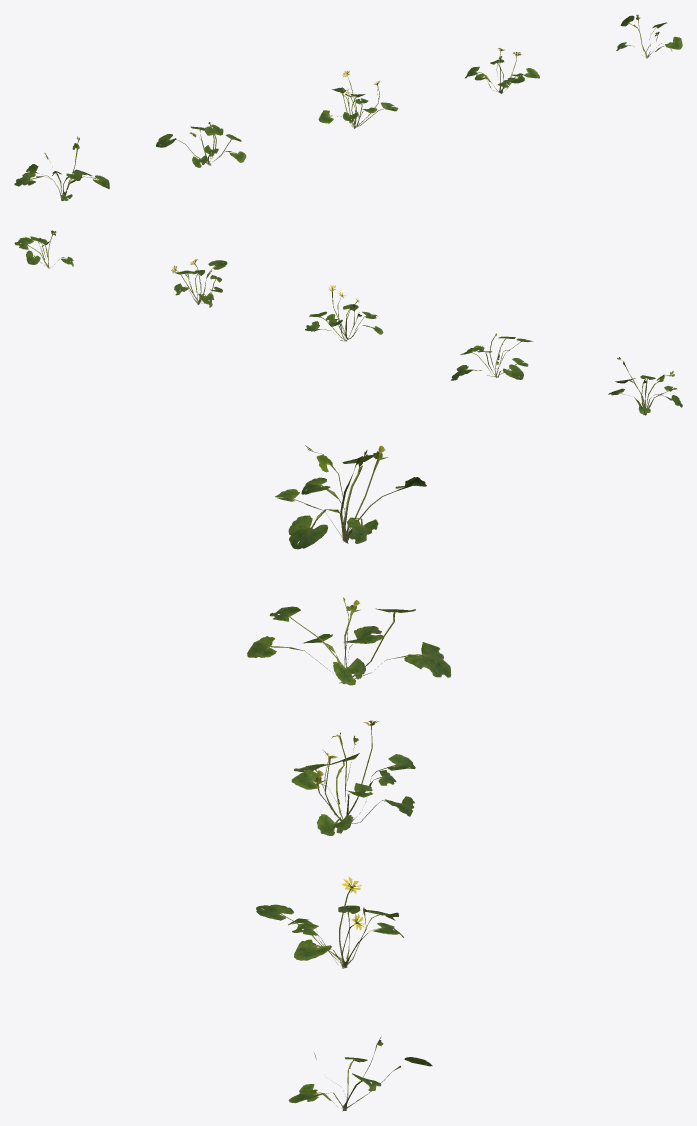
The model's file is celandine.glb.
3 renders of one model, top to bottom at view 1: azimuth 30°, elevation 25°; view 2: azimuth 150°, elevation 25°; view 3: azimuth 270°, elevation 25°, orthographic. The views are drawn at different scales.
Parts seen in each view (by area): view 1: celandine_01_b_LOD0, celandine_01_c_LOD0, celandine_01_a_LOD0, celandine_01_d_LOD0, celandine_01_e_LOD0; view 2: celandine_01_b_LOD0, celandine_01_c_LOD0, celandine_01_d_LOD0, celandine_01_a_LOD0, celandine_01_e_LOD0; view 3: celandine_01_b_LOD0, celandine_01_a_LOD0, celandine_01_c_LOD0, celandine_01_d_LOD0, celandine_01_e_LOD0.
Part boxes in pixels (left/top/right/bottom): celandine_01_b_LOD0: left=156, top=122, right=246, bottom=167; celandine_01_c_LOD0: left=318, top=70, right=398, bottom=128; celandine_01_a_LOD0: left=14, top=136, right=109, bottom=200; celandine_01_d_LOD0: left=465, top=48, right=539, bottom=93; celandine_01_e_LOD0: left=616, top=14, right=682, bottom=58; celandine_01_b_LOD0: left=451, top=333, right=533, bottom=380; celandine_01_c_LOD0: left=305, top=285, right=383, bottom=341; celandine_01_d_LOD0: left=171, top=259, right=227, bottom=307; celandine_01_a_LOD0: left=608, top=357, right=682, bottom=415; celandine_01_e_LOD0: left=14, top=230, right=73, bottom=268; celandine_01_b_LOD0: left=247, top=597, right=451, bottom=685; celandine_01_a_LOD0: left=275, top=445, right=426, bottom=549; celandine_01_c_LOD0: left=291, top=720, right=415, bottom=835; celandine_01_d_LOD0: left=256, top=876, right=403, bottom=968; celandine_01_e_LOD0: left=288, top=1036, right=432, bottom=1111.
Bounding box in the file's own units: 2.24 × 0.185 × 0.3051.
Materials: 1 (1 with a texture image).
